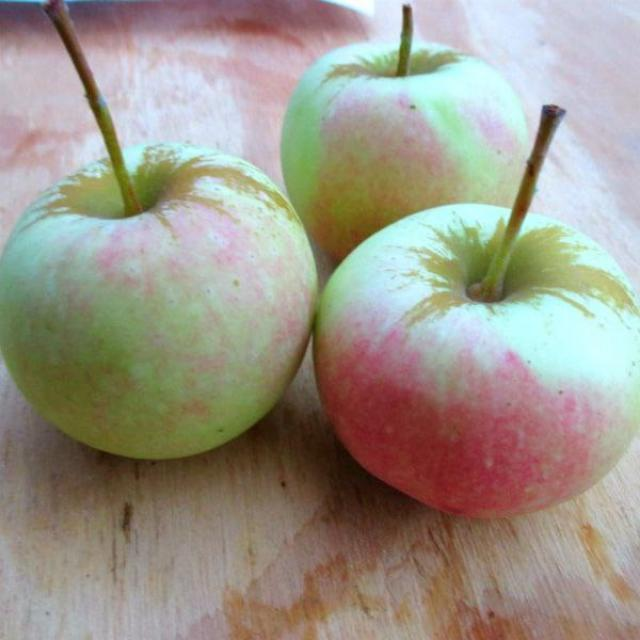Fresh Apple: (318, 202, 638, 503), (30, 137, 307, 463)
